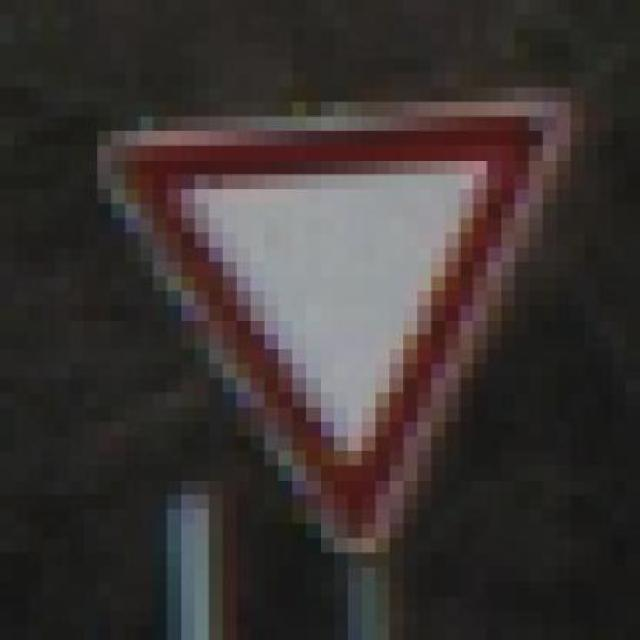Give Way: (55, 87, 612, 611)
